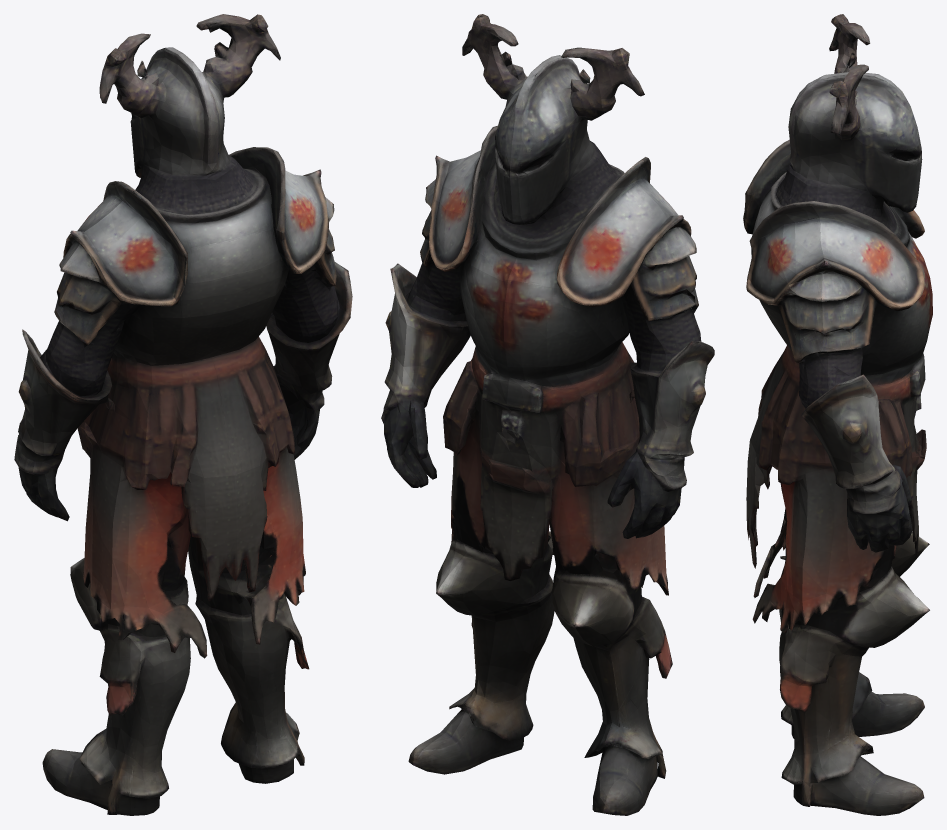
File: sample.glb
3 renders of one model, left to right at view 1: azimuth 30°, elevation 25°; view 2: azimuth 150°, elevation 25°; view 3: azimuth 270°, elevation 25°, orthographic. The views are drawn at different scales.
Parts seen in each view (by area): view 1: world; view 2: world; view 3: world.
Boxes of the visible parts, x1,y1,x2,y2 form: world: [14, 14, 352, 815]; world: [381, 14, 714, 815]; world: [743, 14, 932, 815].
Bounding box in the file's own units: 0.4476 × 1 × 0.2395.
1 material, 1 textured.
